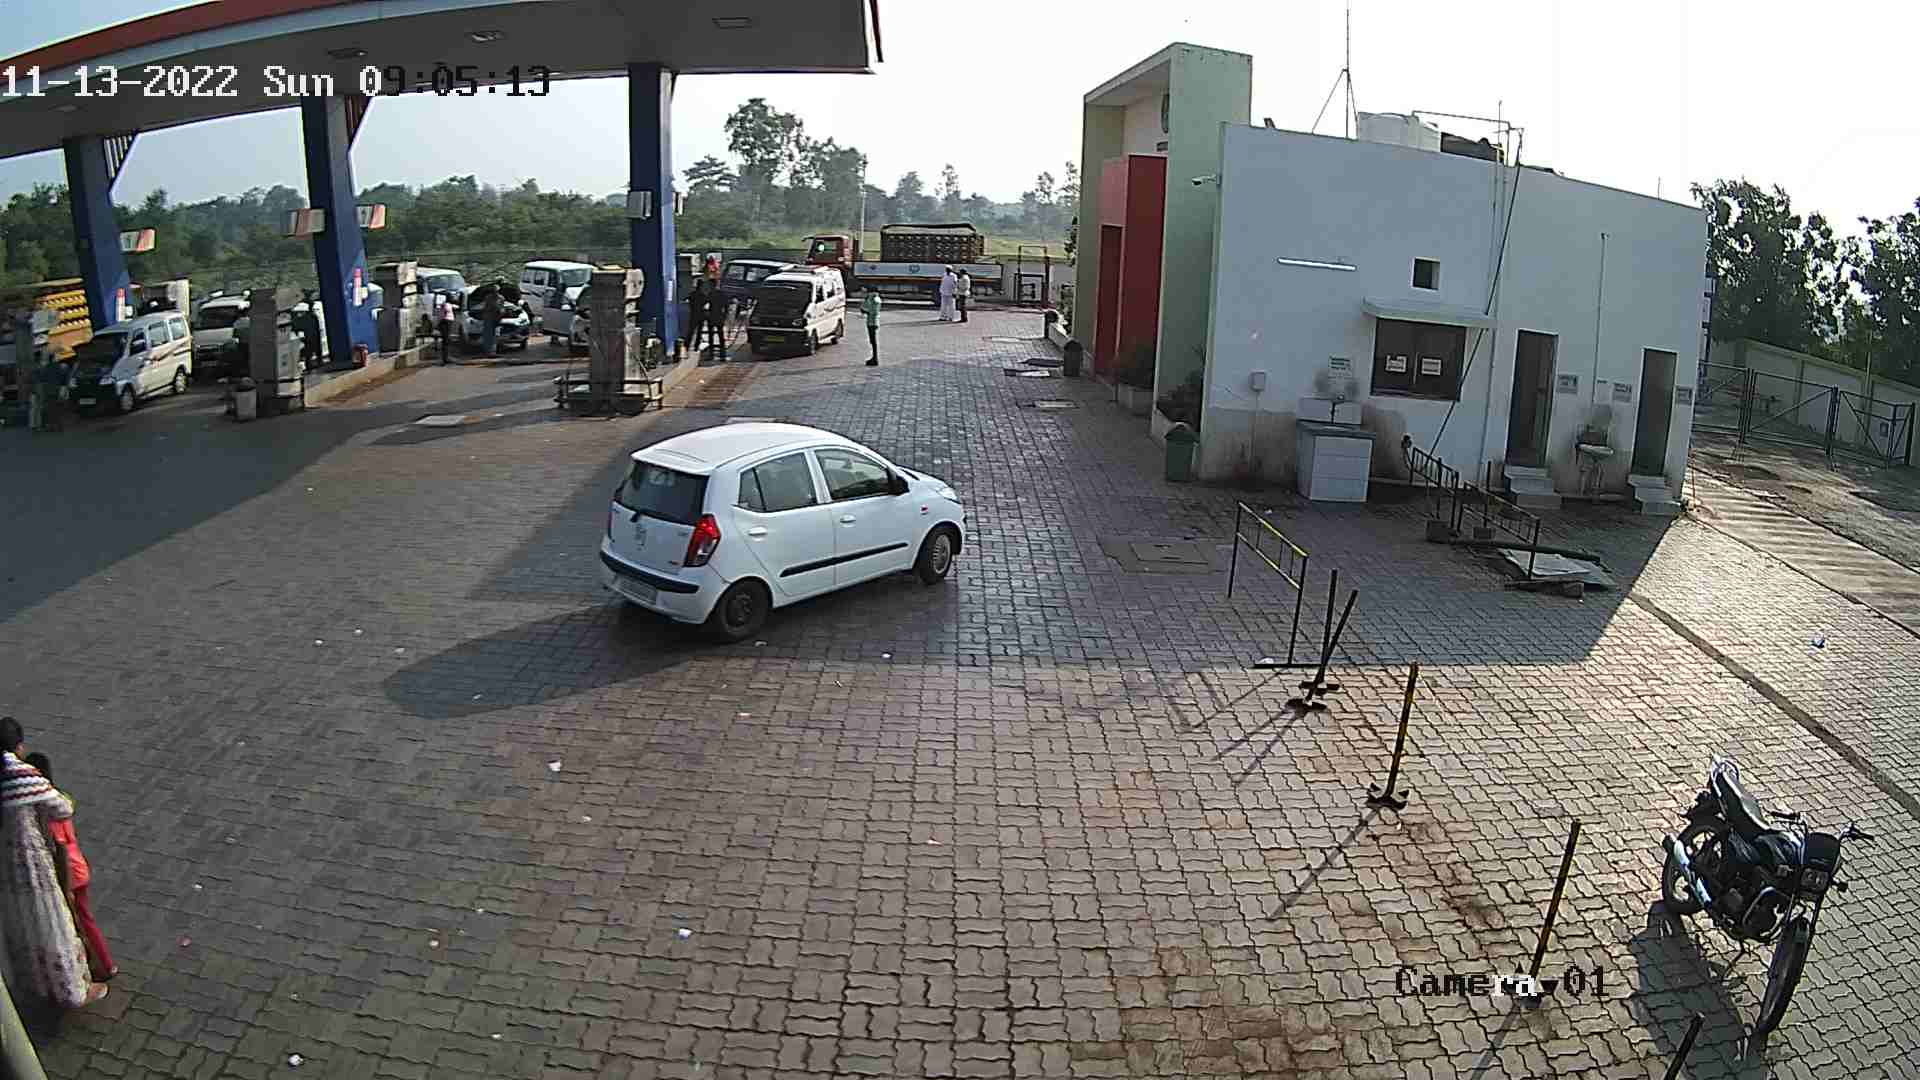Bike: (1644, 746, 1879, 1043)
Car: (585, 410, 981, 646), (55, 301, 204, 422), (731, 257, 848, 360), (429, 272, 541, 357), (185, 285, 261, 389), (513, 252, 605, 324), (699, 252, 791, 320), (534, 273, 603, 361), (409, 257, 469, 339), (289, 284, 338, 368)
HMV: (793, 218, 1006, 311), (0, 266, 92, 405)
